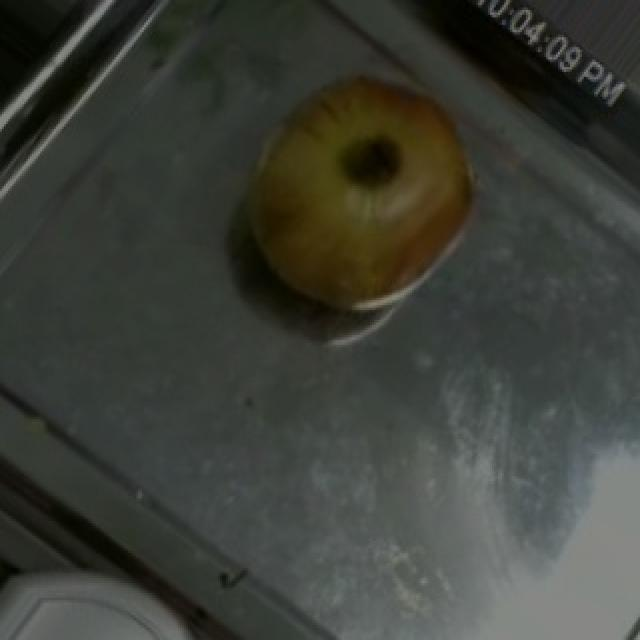fruit: (238, 45, 512, 342)
